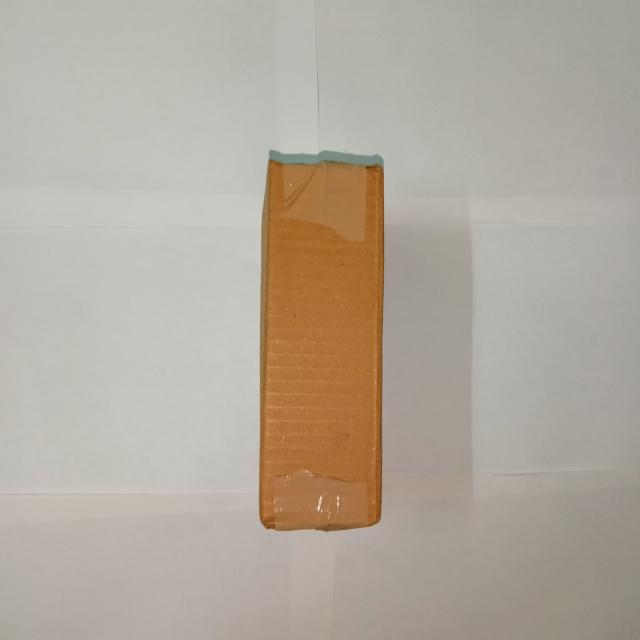box: (263, 164, 387, 533)
